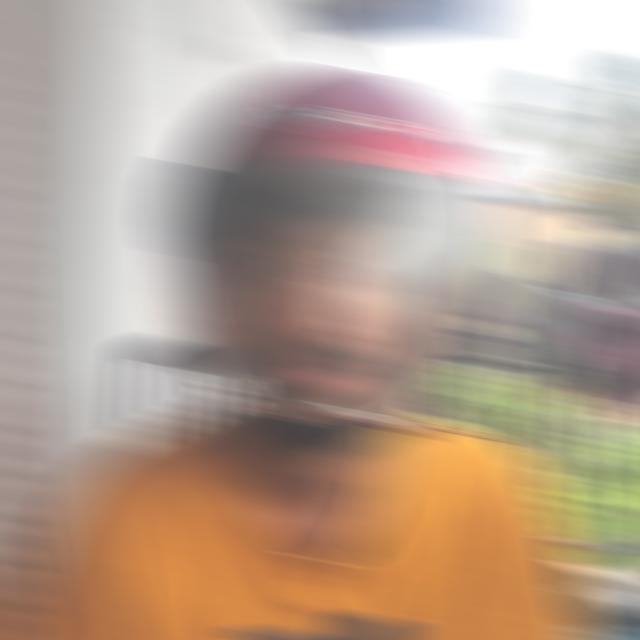With Helmet: (149, 63, 512, 423)
